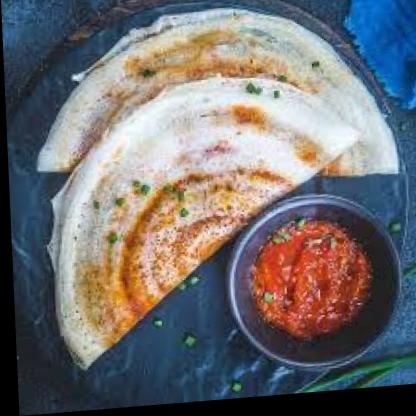dosa: (38, 73, 364, 373), (29, 1, 395, 203)
